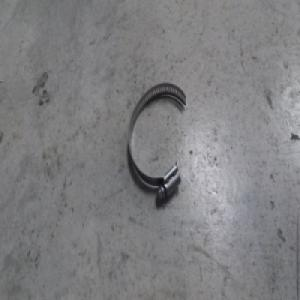AdjustableClamp: (127, 83, 191, 199)
